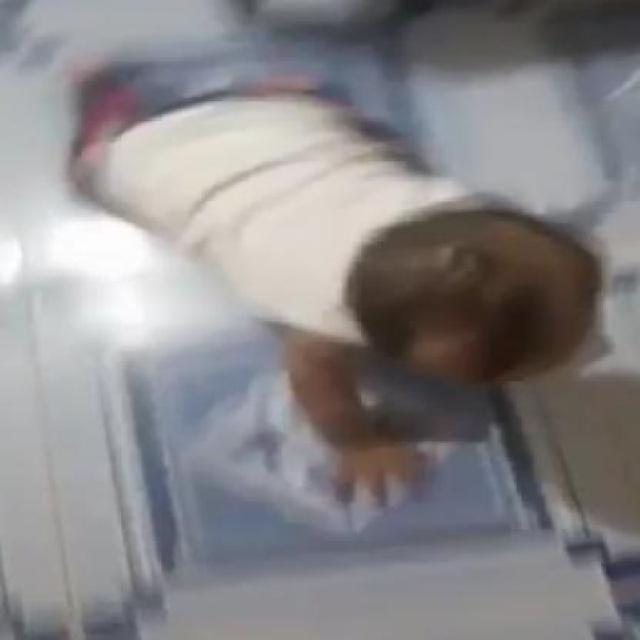baby: (68, 74, 600, 514)
